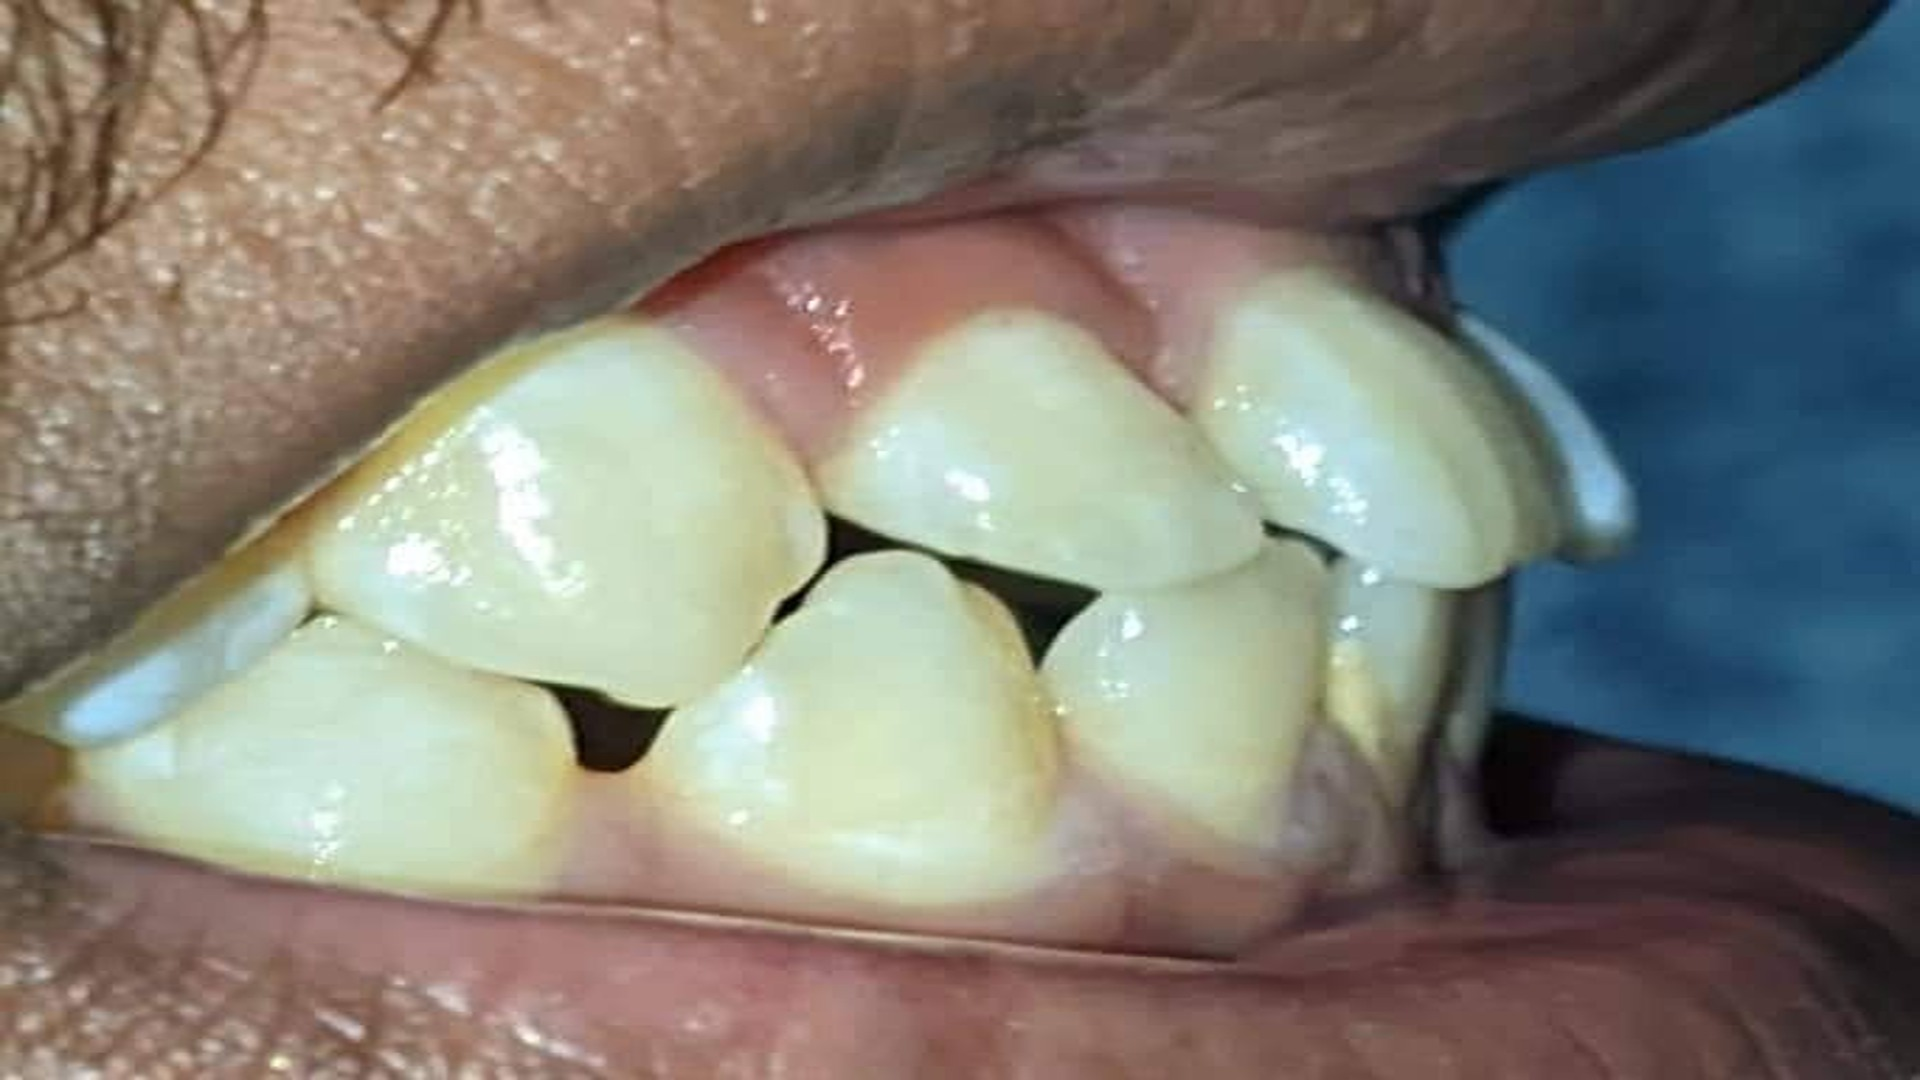tooth: (311, 317, 829, 710), (62, 613, 581, 896), (646, 549, 1059, 901), (814, 308, 1265, 593), (1190, 265, 1560, 589), (1037, 540, 1330, 848), (1453, 305, 1643, 563), (1321, 558, 1459, 807)
